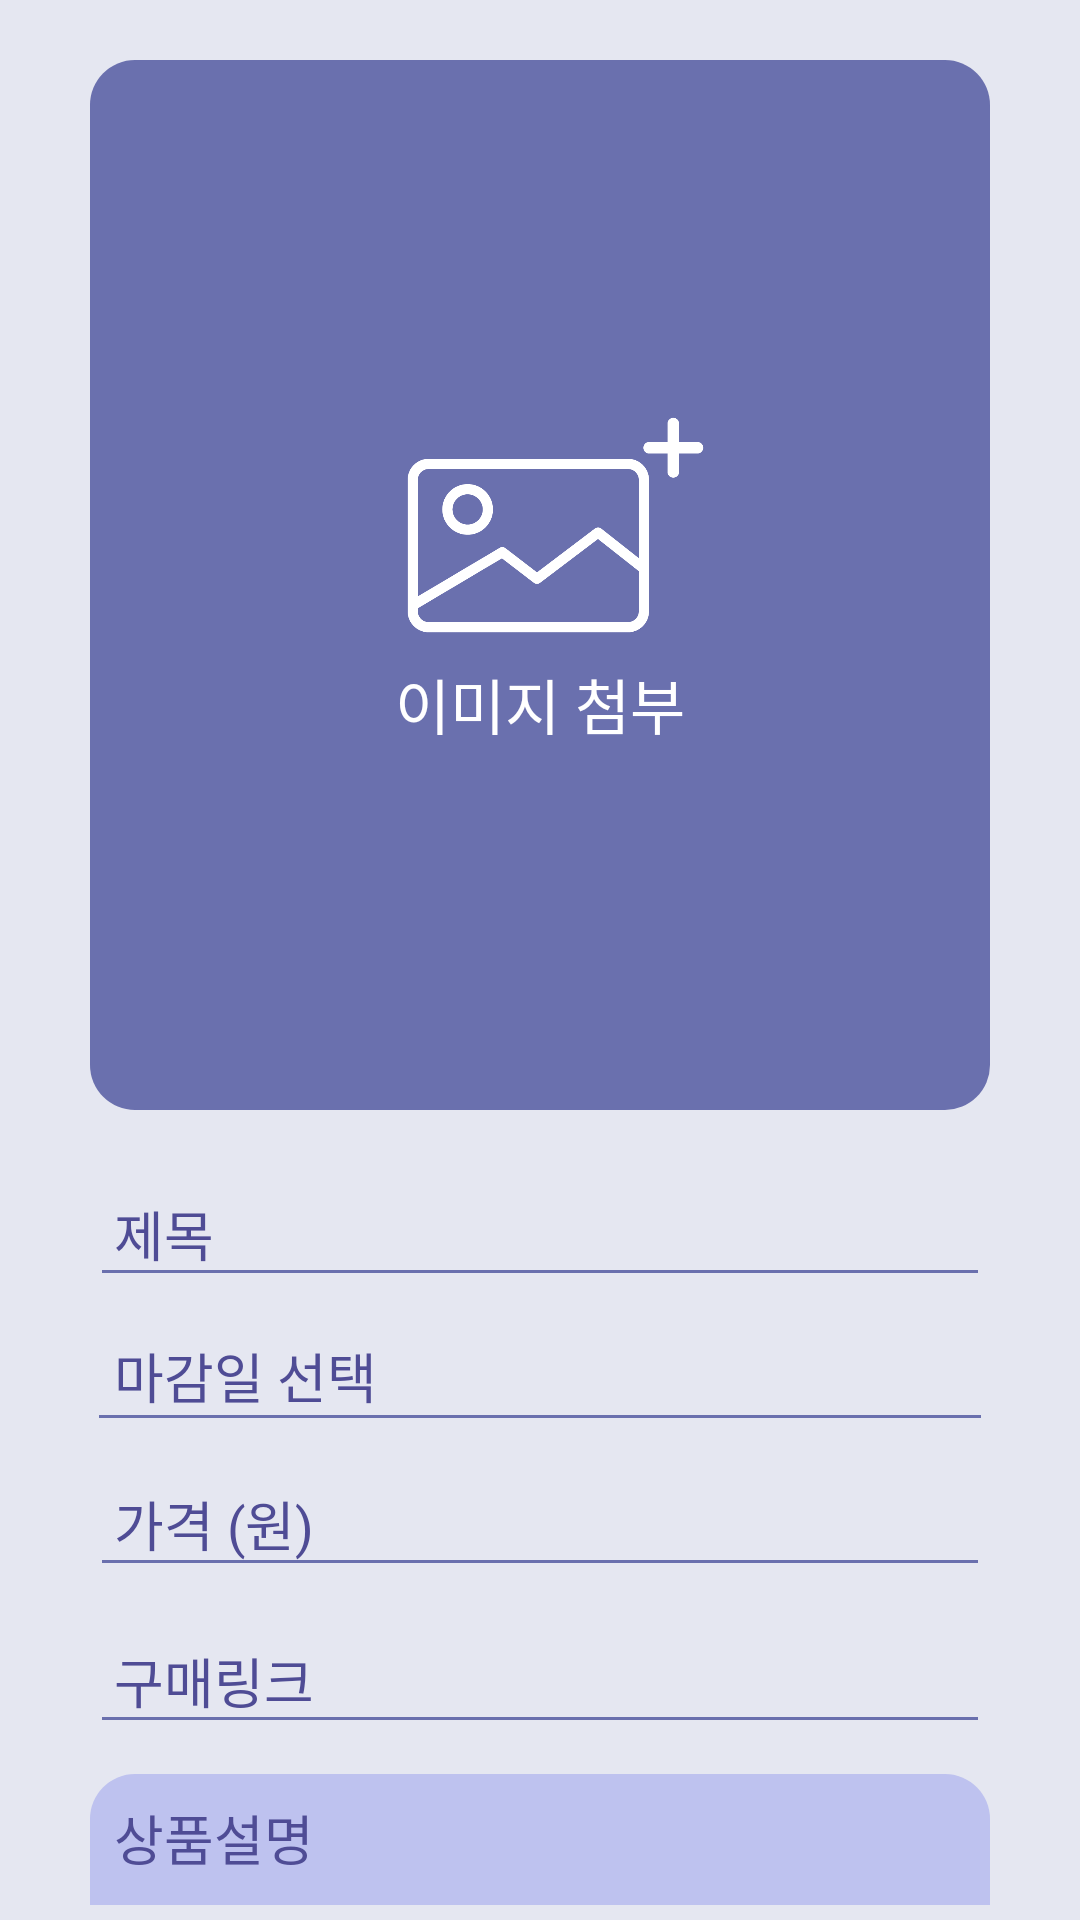

Icon click points for this 1080x1920 phone screenshot, format (x=x, y=y):
upload: (x=555, y=525)
